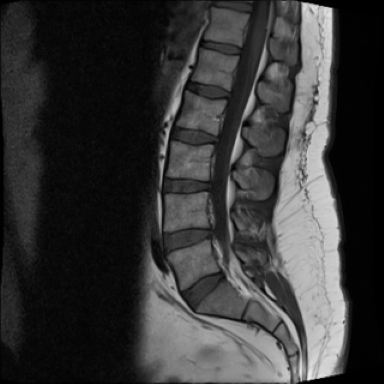Lumbar Disc Bulge (LDB): (159, 222, 215, 255)
Normal IVD: (176, 265, 228, 315), (154, 173, 215, 198), (171, 79, 234, 102), (168, 123, 221, 149), (197, 37, 243, 58)
